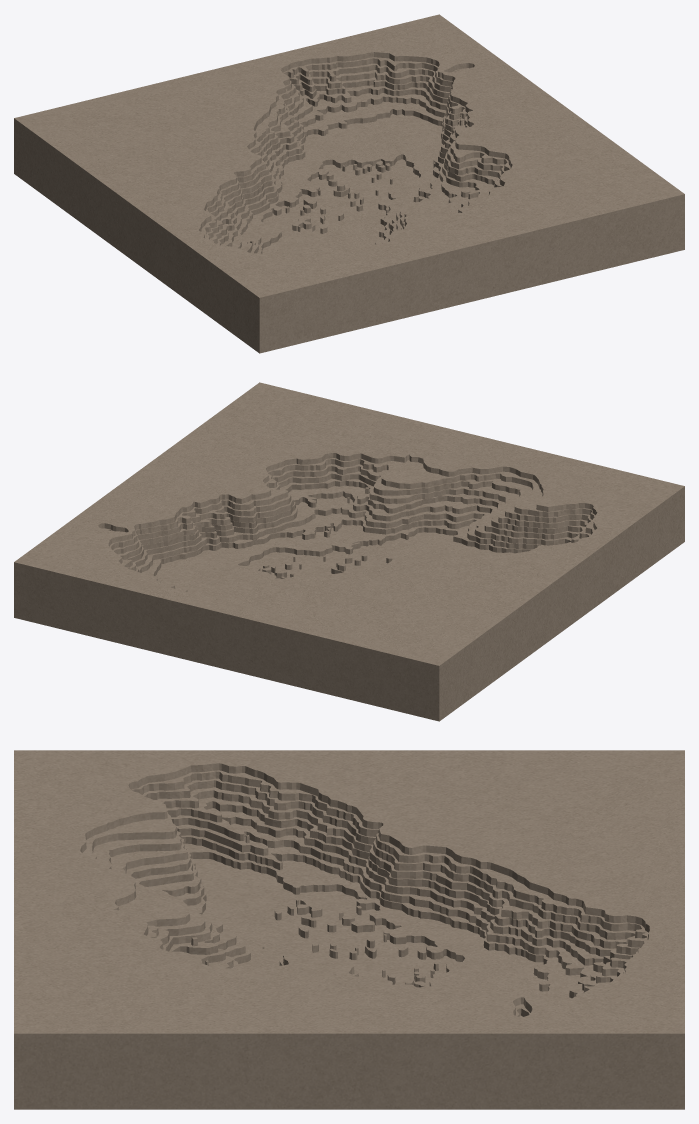
3 views of the same model, one above another, from view 1: azimuth 30°, elevation 25°; view 2: azimuth 150°, elevation 25°; view 3: azimuth 270°, elevation 25° (orthographic). The views are drawn at different scales.
Visible parts, largest first — view 1: coaster.001; view 2: coaster.001; view 3: coaster.001.
Boxes of the visible parts, x1,y1,x2,y2 form: coaster.001: (14,14,684,353); coaster.001: (14,382,684,721); coaster.001: (14,750,684,1109).
Bounding box in the file's own units: 102 × 12.7 × 102.
Materials: 1 (1 with a texture image).
